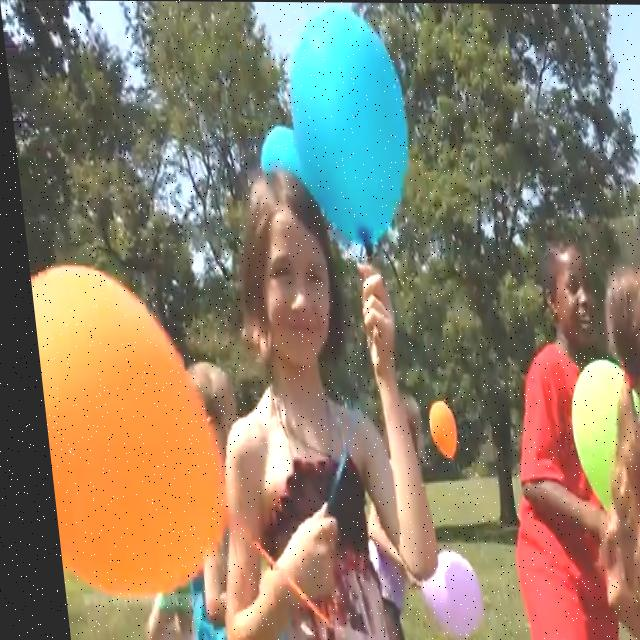balloon: (23, 267, 222, 600), (283, 8, 414, 244), (559, 359, 640, 521), (404, 549, 478, 637), (257, 122, 299, 190), (417, 398, 449, 460)
